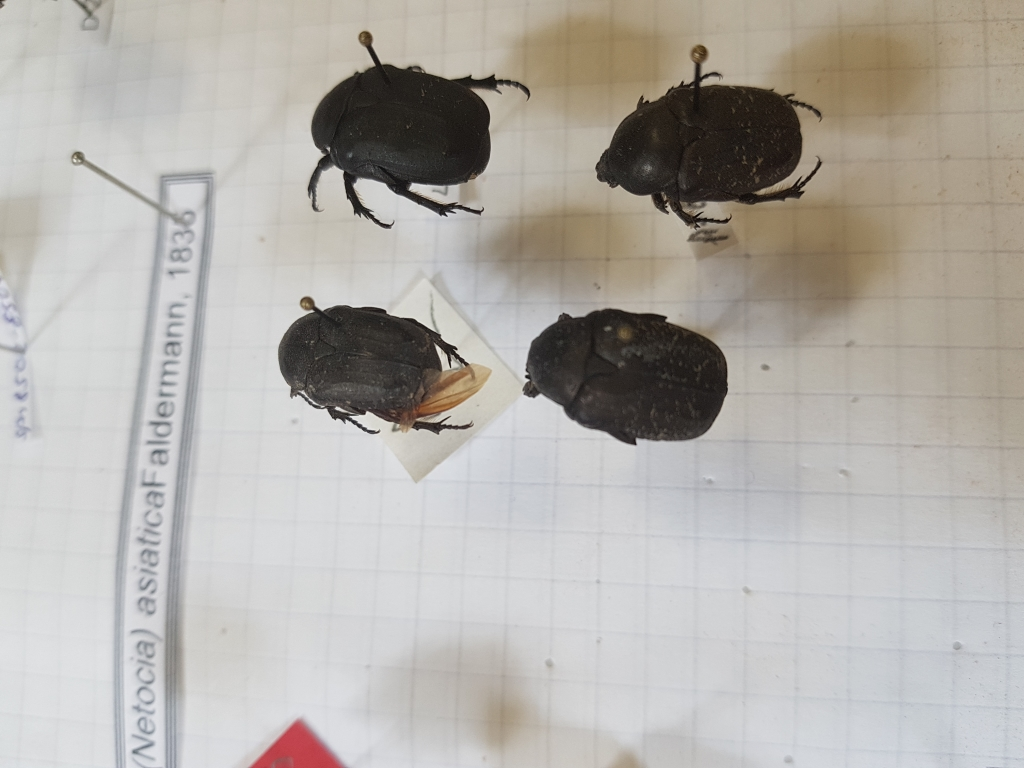Protaetia_asiatica: (587, 65, 834, 233), (293, 60, 536, 228), (516, 300, 740, 472)
